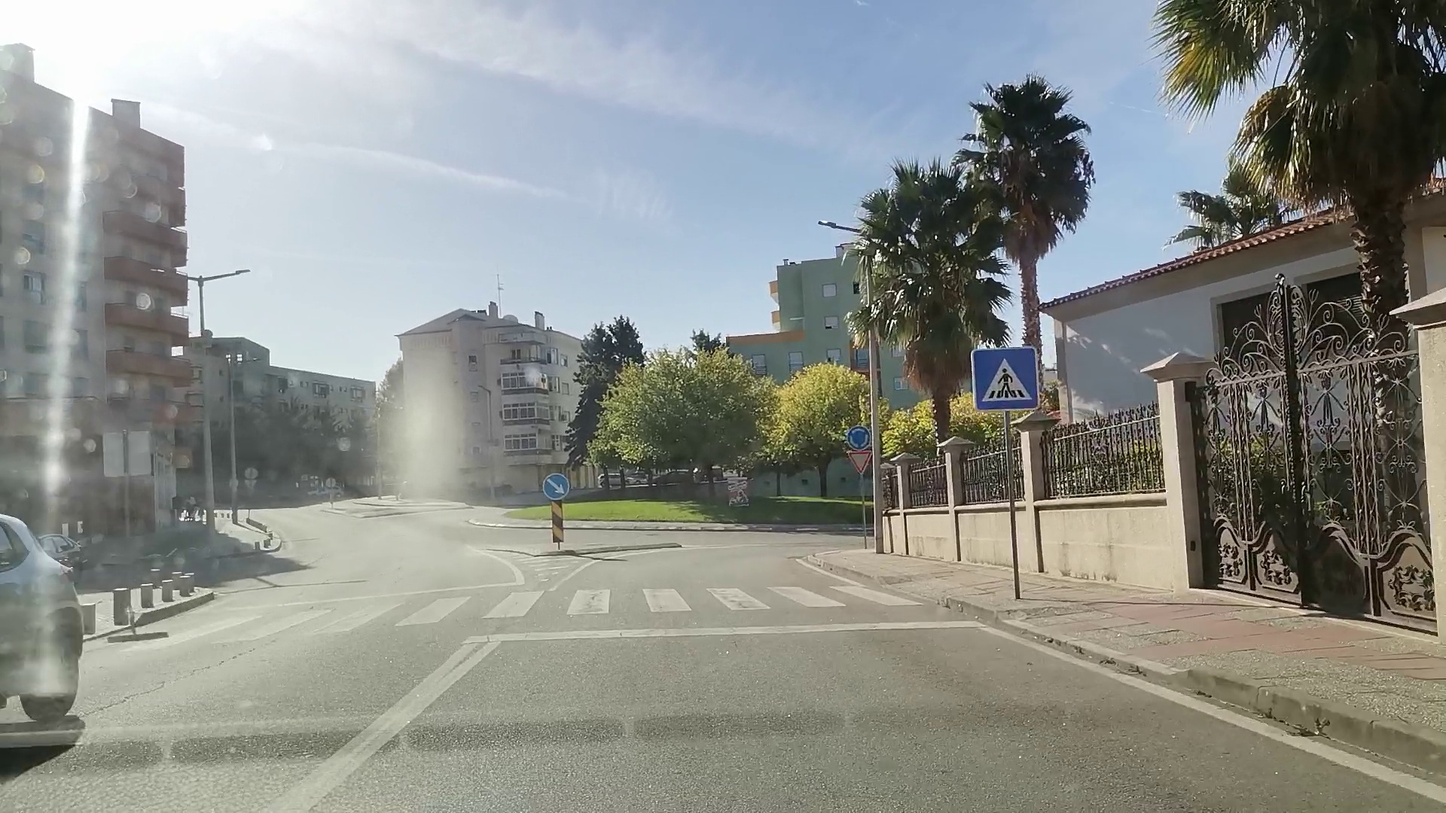Stairs: (110, 582, 925, 645)
